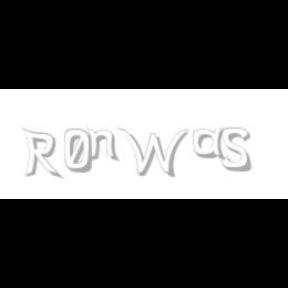0: (64, 128, 96, 174)
R: (22, 128, 60, 180)
S: (222, 128, 252, 172)
W: (117, 128, 189, 178)
a: (194, 128, 231, 160)
n: (86, 128, 120, 162)
